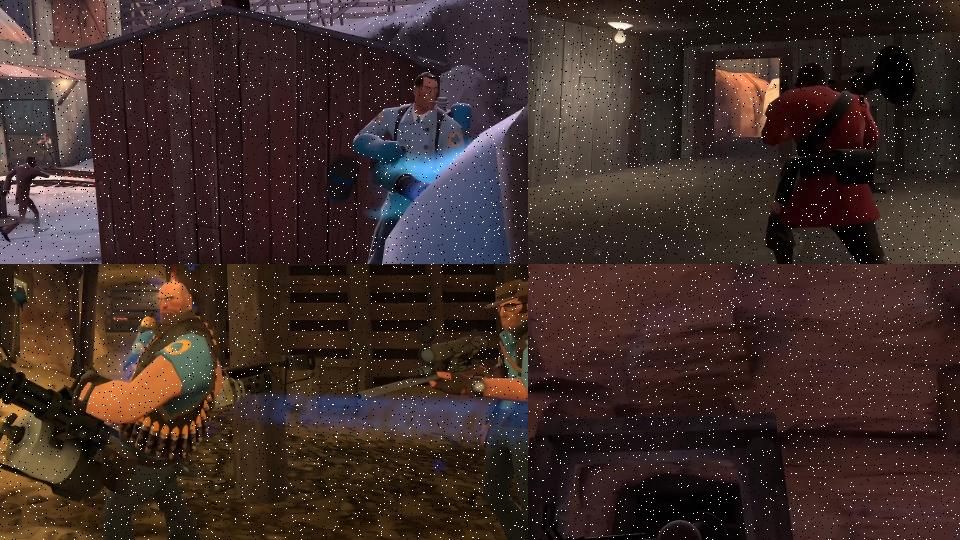Enemy: (0, 278, 226, 540), (355, 275, 528, 540), (755, 45, 926, 264), (350, 69, 475, 264), (1, 156, 50, 244), (37, 133, 58, 170)
